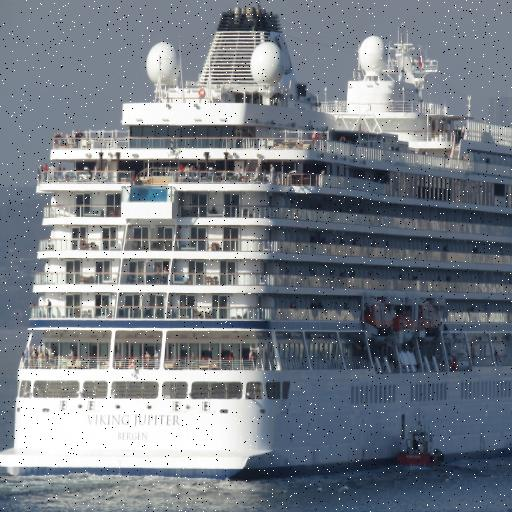cruises: (1, 1, 512, 485)
